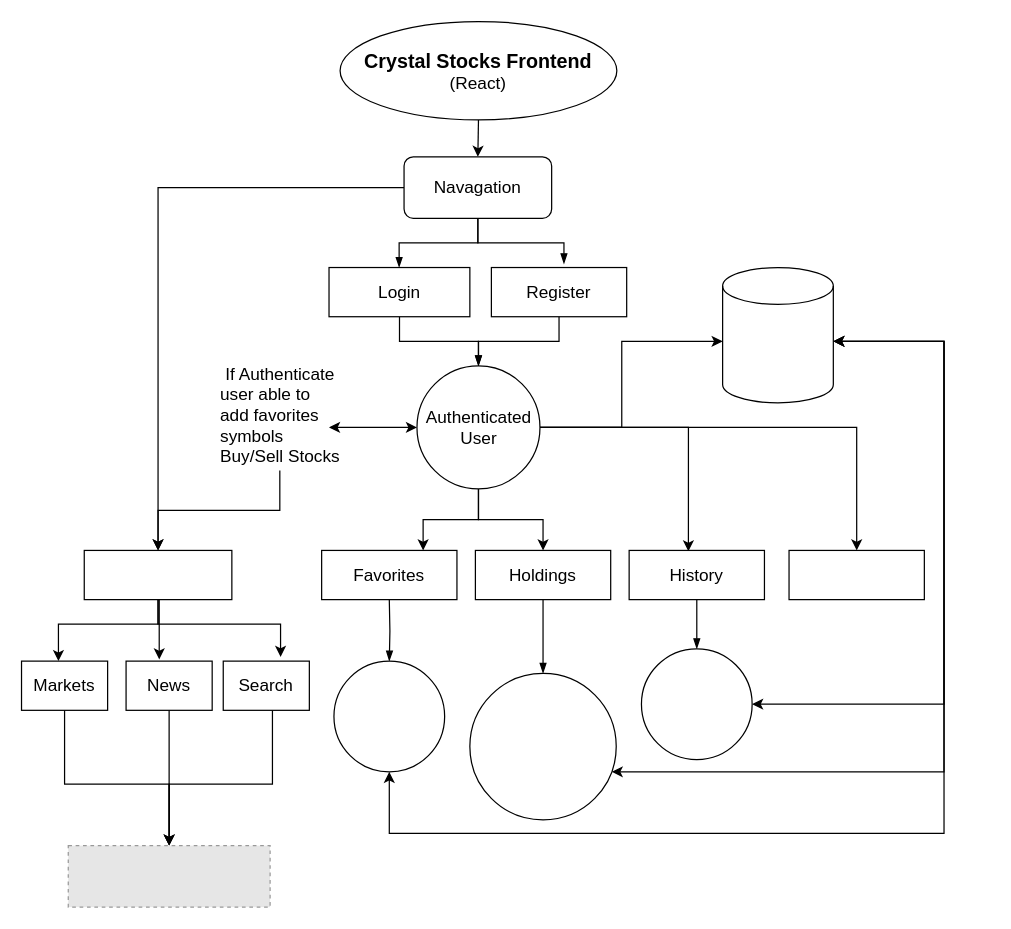
The diagram is 1011 pixels wide and 929 high, and some of its shapes have lost their labels. Grey dashed boxes stand in for pictures. The centre of each missing label's shape, as x and y in pixels:
"API call to get user Holdings/Trade" belongs at (x=542, y=746).
"API call to get user transcatons" belongs at (x=696, y=704).
"API call to get/update user watchlist" belongs at (x=389, y=716).
"Backend Nodejs Express MongoDB" belongs at (x=777, y=334).
"Browse" belongs at (x=157, y=574).
"Logout" belongs at (x=856, y=574).
